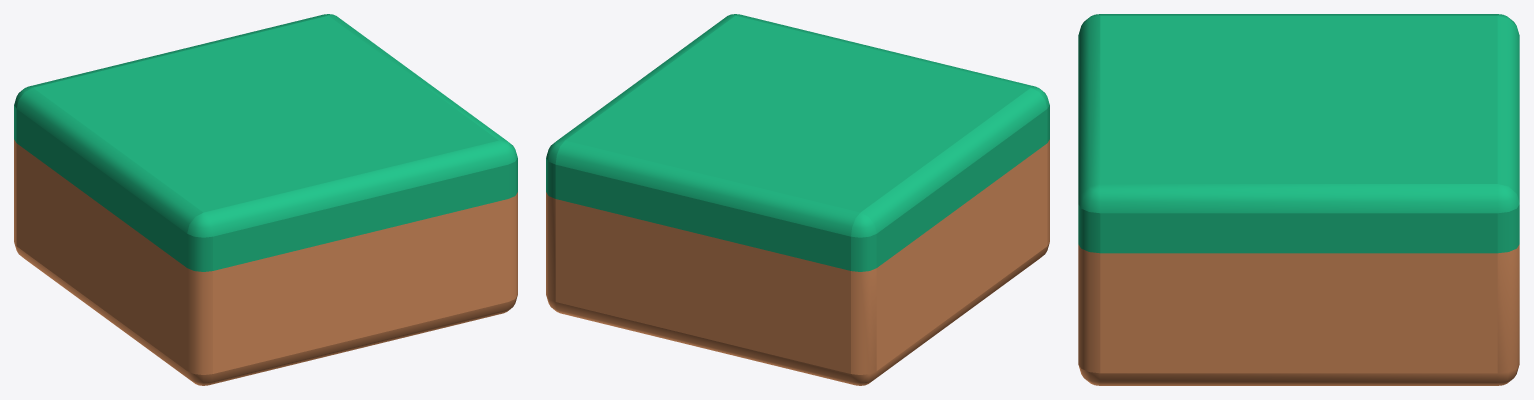
File: blockRoundedLarge.obj
The picture shows the model from 3 angles, left to right: view 1: azimuth 30°, elevation 25°; view 2: azimuth 150°, elevation 25°; view 3: azimuth 270°, elevation 25°; orthographic projection. The views are drawn at different scales.
Parts seen in each view (by area): view 1: blockRoundedLarge; view 2: blockRoundedLarge; view 3: blockRoundedLarge.
Boxes of the visible parts, <box> form: blockRoundedLarge: <box>14,14,517,385</box>; blockRoundedLarge: <box>546,14,1049,385</box>; blockRoundedLarge: <box>1078,14,1519,385</box>.
Size of the model in its own units: 2 by 1 by 2.
